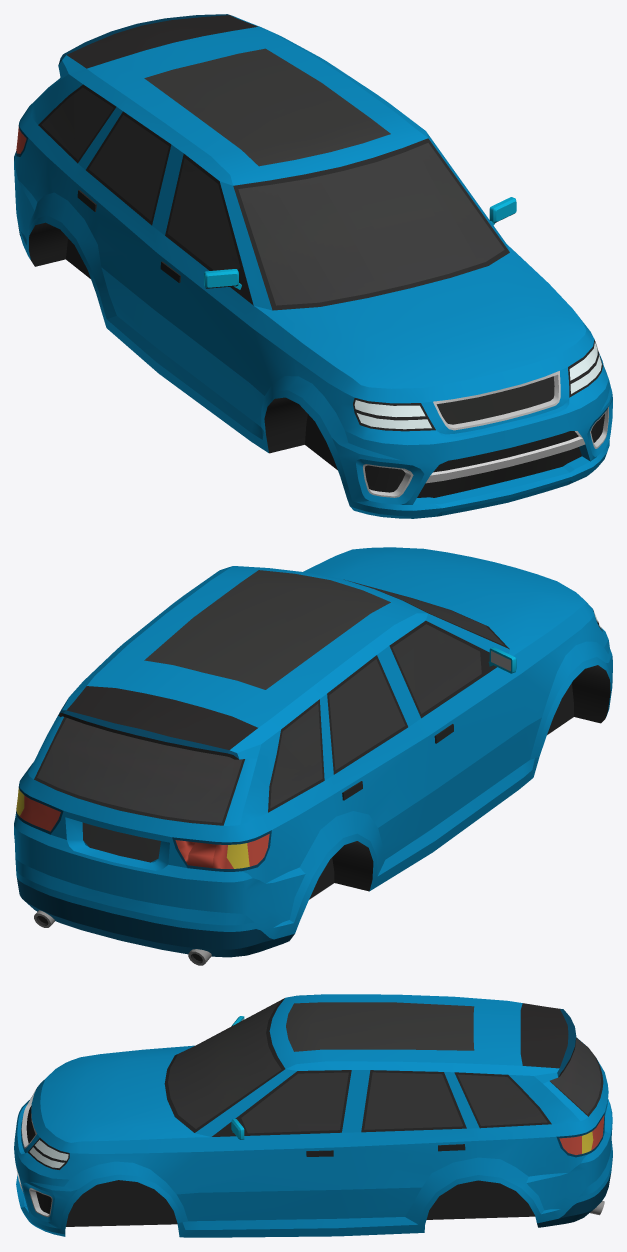
The model's file is AlcyoneEDT2.fbx.
The picture shows the model from 3 angles, top to bottom: view 1: azimuth 30°, elevation 25°; view 2: azimuth 150°, elevation 25°; view 3: azimuth 270°, elevation 25°; orthographic projection. The views are drawn at different scales.
Parts seen in each view (by area): view 1: Body_LOD00; view 2: Body_LOD00; view 3: Body_LOD00.
Boxes of the visible parts, x1,y1,x2,y2 form: Body_LOD00: [14, 14, 612, 518]; Body_LOD00: [14, 547, 612, 965]; Body_LOD00: [14, 994, 612, 1237].
Size of what is drawn, in the model's own units: 213 by 147 by 475.
